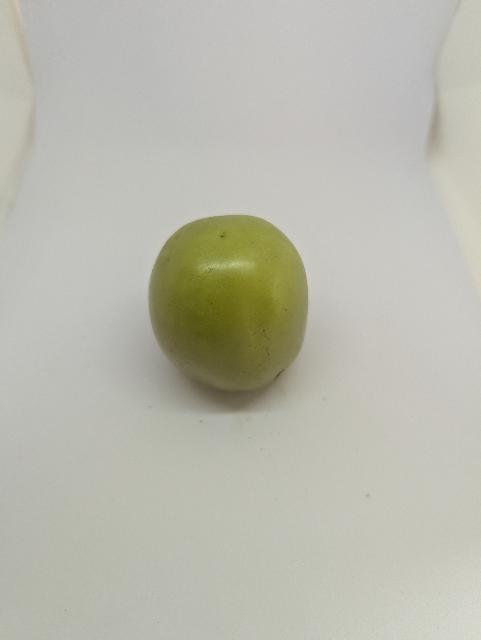green: (144, 197, 318, 399)
